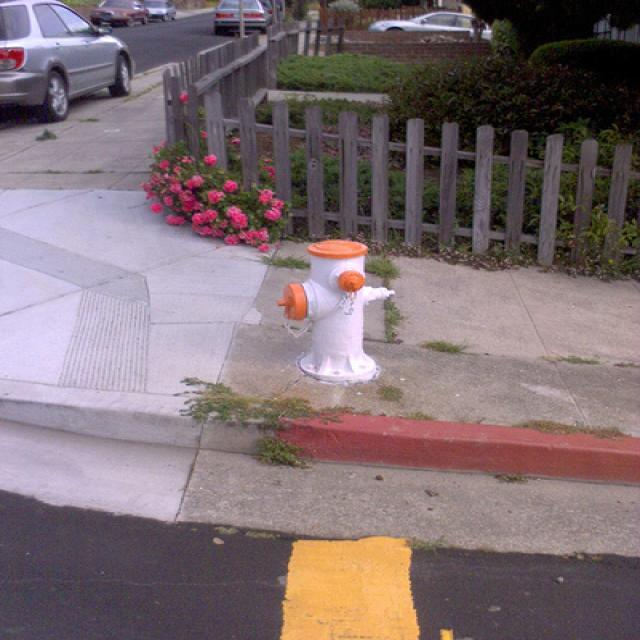fire_hydrant: (276, 235, 396, 382)
